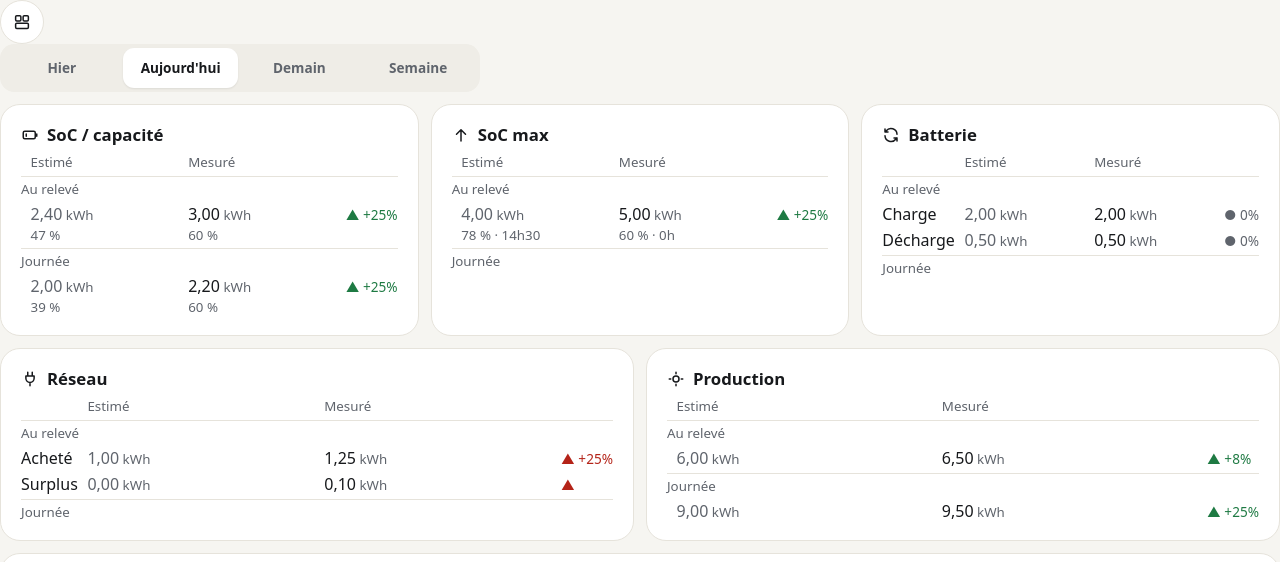
it: CurvesScreen › Semaine : signale les mesures impossibles du jour qui ouvre la semaine
Click the tab "Semaine" at (418, 68), box [360,48,476,88]
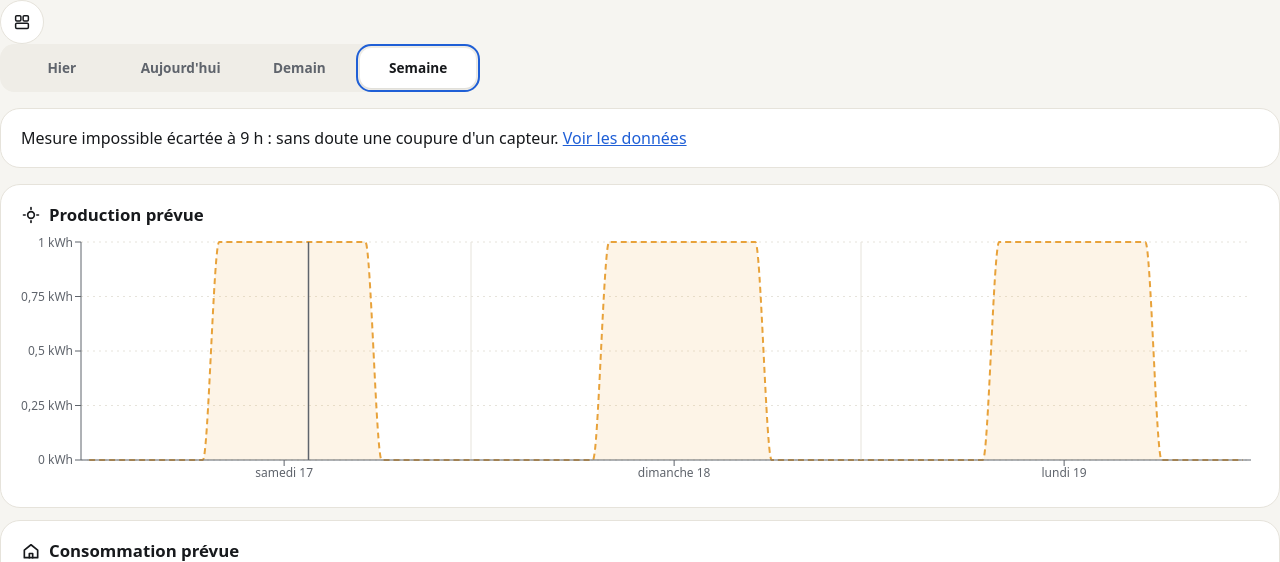
Now the text "Mesure impossible écartée à 9 h : sans doute une coupure d'un capteur." is shown, box [21,127,558,149]
